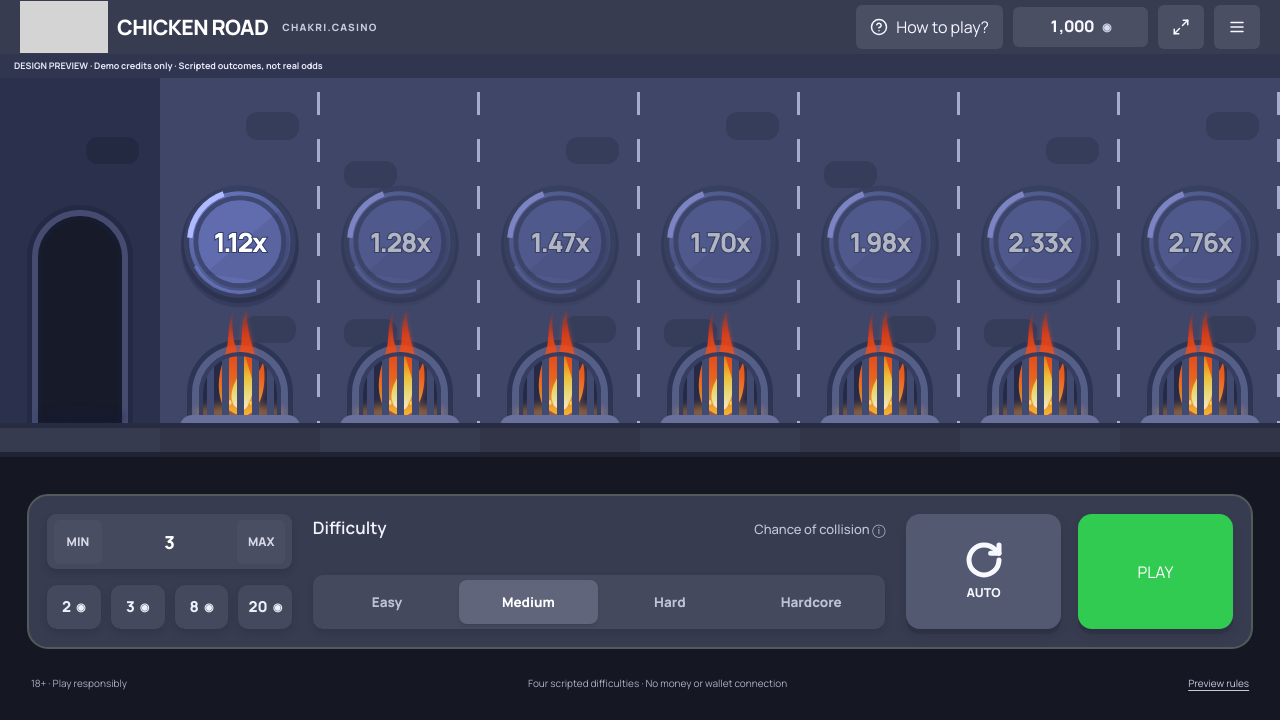
Test: Last demo round updates when a cash-out is followed by a collision
Click the button "Play": (1155, 572) [1078, 514, 1233, 629]
Wait 480 ms
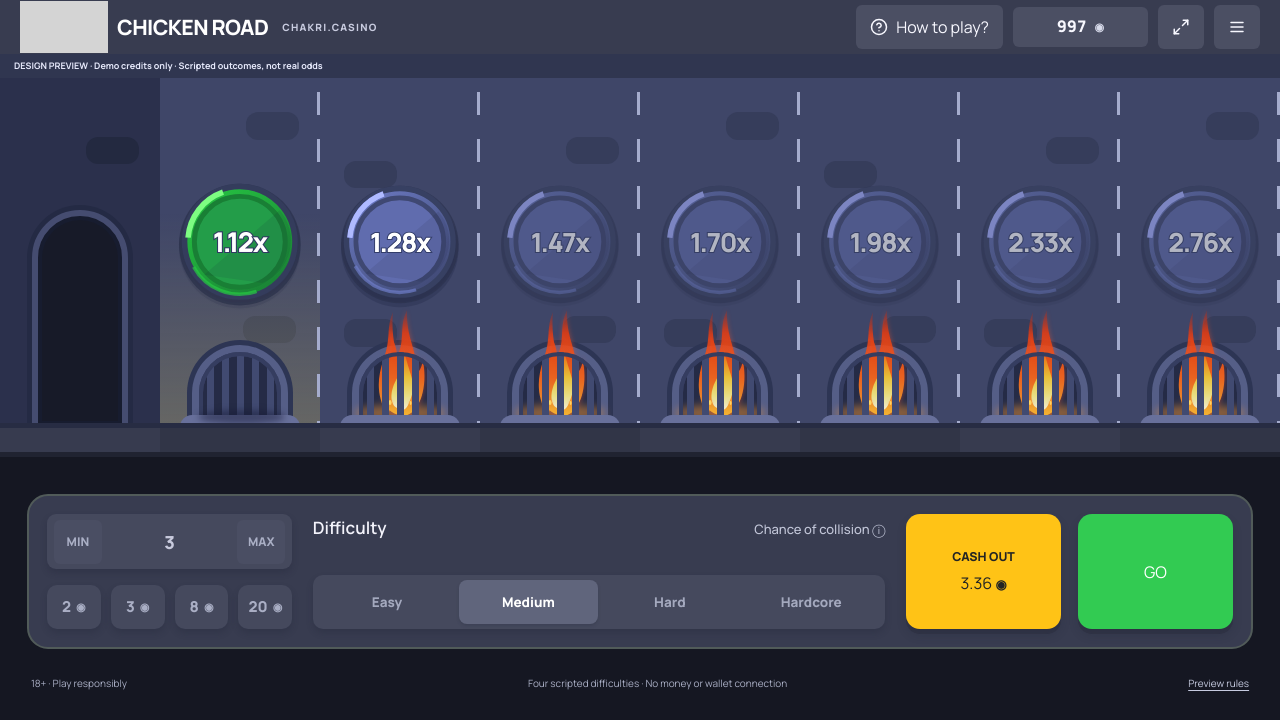
Click the button with test id "road-cashout": (984, 572) [906, 514, 1061, 629]
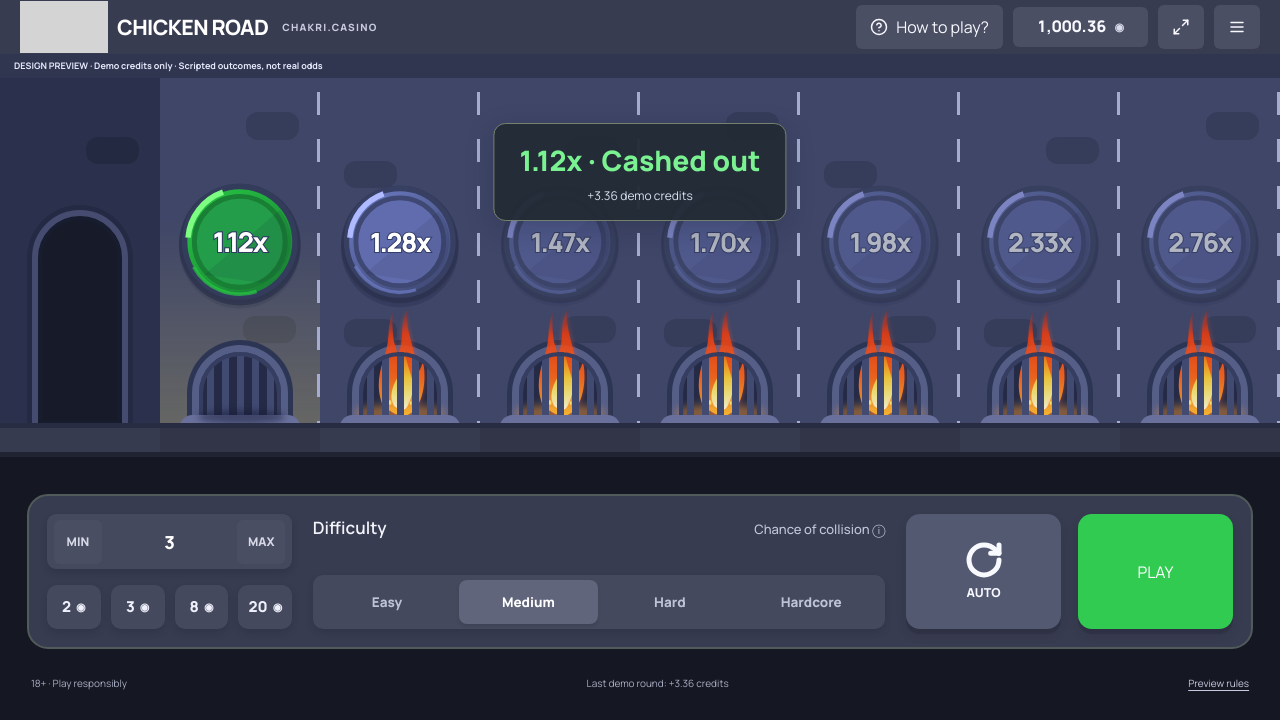
Expected: the text with class "road-history" reads "Last demo round: +3.36 credits", [587, 676, 729, 690]
Click the button "Play": (1155, 572) [1078, 514, 1233, 629]
Wait 480 ms
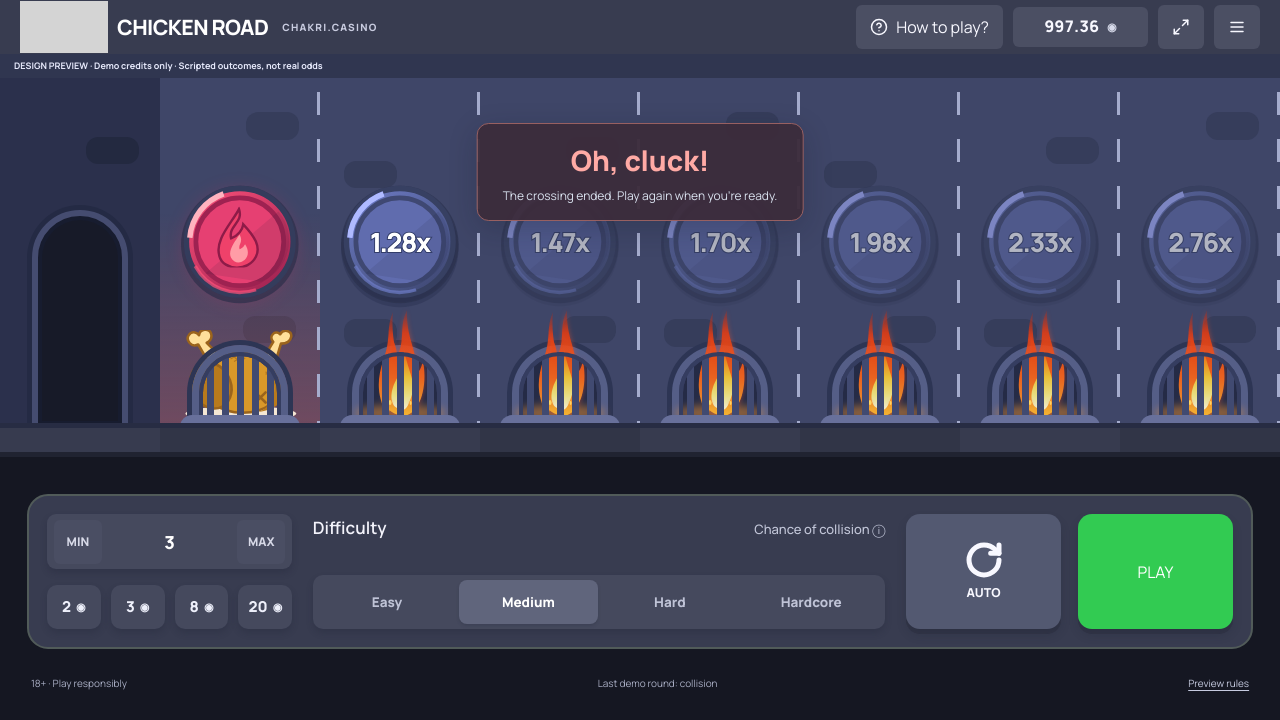
Expected: the text with class "road-history" reads "Last demo round: collision", [598, 676, 718, 690]
